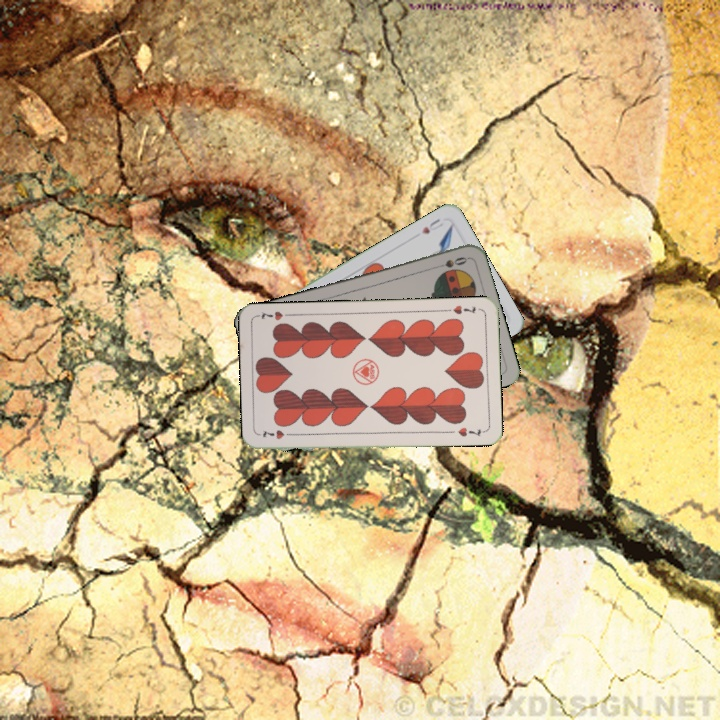H7: (442, 301, 478, 317), (259, 427, 297, 441)
HU: (417, 215, 446, 237)
SO: (430, 253, 470, 271)
